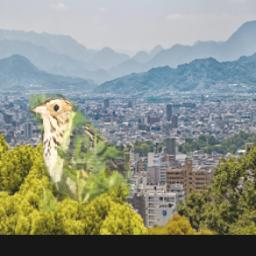Sparrow: (29, 95, 131, 214)
